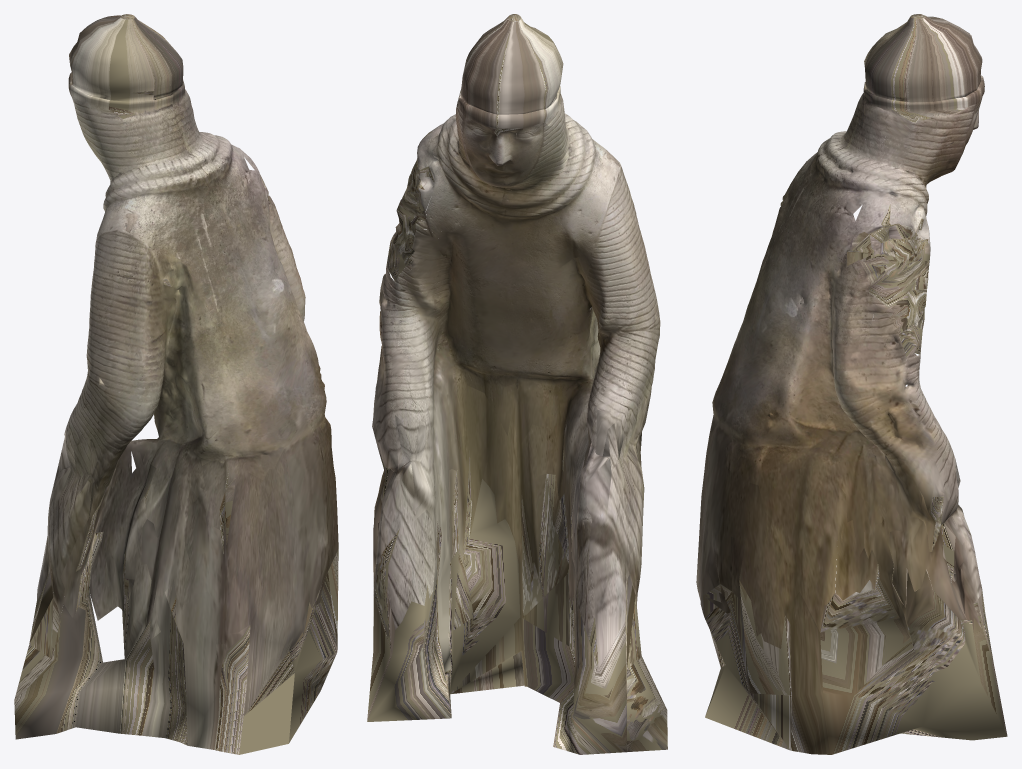
3 views of the same model, side by side, from view 1: azimuth 30°, elevation 25°; view 2: azimuth 150°, elevation 25°; view 3: azimuth 270°, elevation 25° (orthographic). The views are drawn at different scales.
Parts seen in each view (by area): view 1: Mesh_0; view 2: Mesh_0; view 3: Mesh_0.
Part boxes in pixels (x1=…): Mesh_0: x1=14, y1=14, x2=338, y2=754; Mesh_0: x1=367, y1=14, x2=667, y2=754; Mesh_0: x1=696, y1=14, x2=1007, y2=754.
Size of the model in its own units: 3.05 by 7.24 by 2.96.
Materials: 4 (4 with a texture image).
